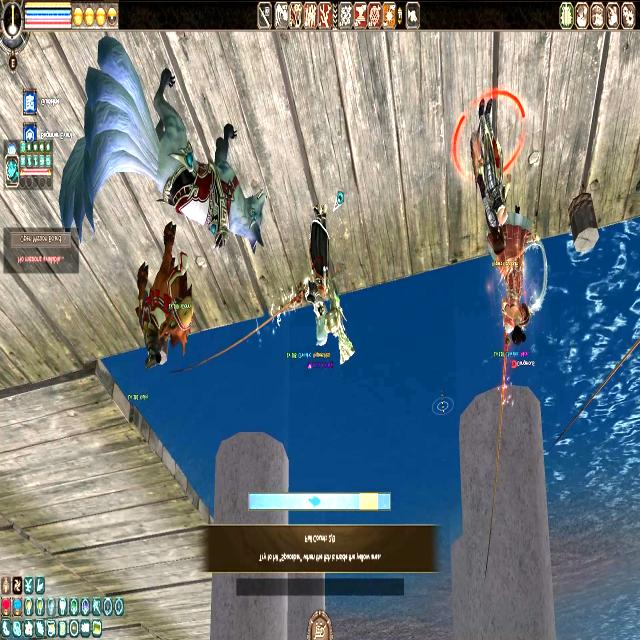fishes: (308, 494, 320, 509)
